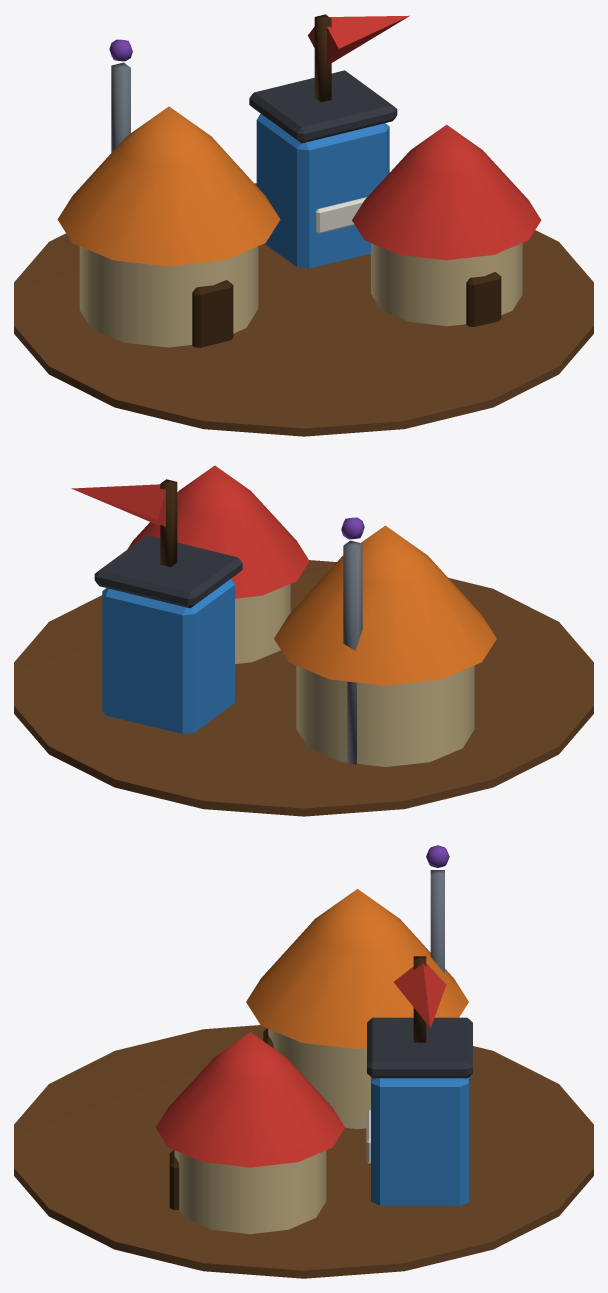
3 views of the same model, one above another, from view 1: azimuth 30°, elevation 25°; view 2: azimuth 150°, elevation 25°; view 3: azimuth 270°, elevation 25° (orthographic).
Parts seen in each view (by area): view 1: vila_0_base, vila_1_torreta; view 2: vila_0_base, vila_1_torreta; view 3: vila_0_base, vila_1_torreta.
Boxes of the visible parts, x1=… form: vila_0_base: x1=14, y1=39, x2=593, y2=436; vila_1_torreta: x1=308, y1=14, x2=409, y2=102; vila_0_base: x1=14, y1=465, x2=593, y2=816; vila_1_torreta: x1=71, y1=479, x2=179, y2=567; vila_0_base: x1=14, y1=845, x2=593, y2=1278; vila_1_torreta: x1=394, y1=956, x2=446, y2=1042.
Size of the model in its own units: 1.32 by 0.6267 by 1.3.
